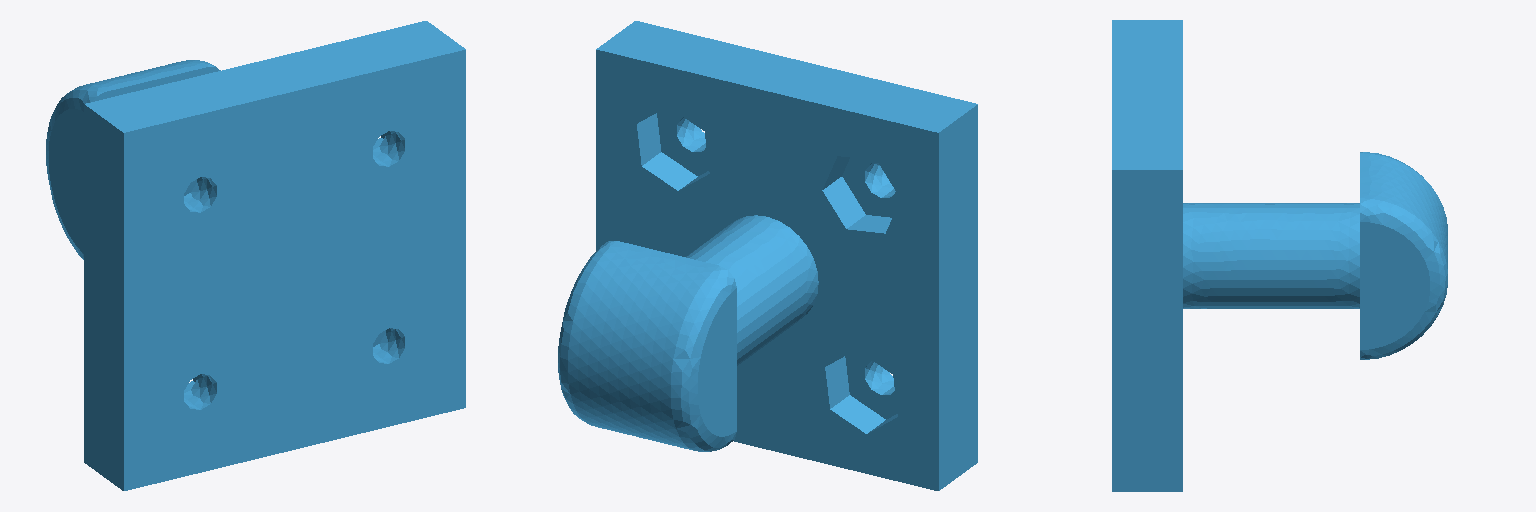
The robot description file, URDF, robot "cylinder_3":
<?xml version="1.0"?>

<robot name="cylinder_3">
	<link name="world">
        </link>

        <joint name="world_to_indenter" type="prismatic">
                <parent link="world"/>
                <child link="indenter"/>
                <origin rpy="0.0 0.0 0.0" xyz="0.0 -0.001 0.0"/>
                <axis xyz="0 1 0"/>
                <dynamics damping="0.0" friction="0.0"/>
                <limit lower="0.0" upper="0.1" velocity="1e9" effort="1e9"/>
        </joint>

	<link name="indenter">
		<visual>
			<origin rpy="0.0 0.0 0.0" xyz="0.0 0.0 0.0"/>
			<geometry>
				<mesh filename="../meshes/cylinder_3_0.2.stl" scale="0.001 0.001 0.001"/>
			</geometry>
		</visual>
		<collision>
			<origin rpy="0.0 0.0 0.0" xyz="0.0 0.0 0.0"/>
			<geometry>
				<mesh filename="../meshes/cylinder_3_0.2.stl" scale="0.001 0.001 0.001"/>
			</geometry>
		</collision>
		<!-- <inertial>
			<origin rpy="0.0 0.0 0.0" xyz="0.0 -14.0636e-3 0.0"/>
			<mass value="0.00075752"/>
			<inertia ixx="2.03201e-8" iyy="1.24370e-8" izz="1.90589e-8" ixy="0.0" ixz="-1.96737e-15" iyz="0.0"/>
		</inertial> -->
	</link>
</robot>

--- What the picture shows (computed from the rendered views, not written in the file) ---
The picture shows the robot from 3 angles, left to right: view 1: azimuth 30°, elevation 25°; view 2: azimuth 150°, elevation 25°; view 3: azimuth 270°, elevation 25°; orthographic projection.
Model cylinder_3 with 2 links and 1 joints (1 prismatic), rooted at world, posed all joints at 0.
Visible links, largest first — view 1: indenter; view 2: indenter; view 3: indenter.
Link boxes in pixels (bbox=[...]): indenter: bbox=[46, 21, 465, 490]; indenter: bbox=[558, 21, 977, 490]; indenter: bbox=[1112, 20, 1447, 491].
Bounding box of the posed robot: 0.02 × 0.019 × 0.02 m (x, y, z).
Meshes: 1 distinct files referenced, 1 mesh visuals loaded (1 ASCII STL).
